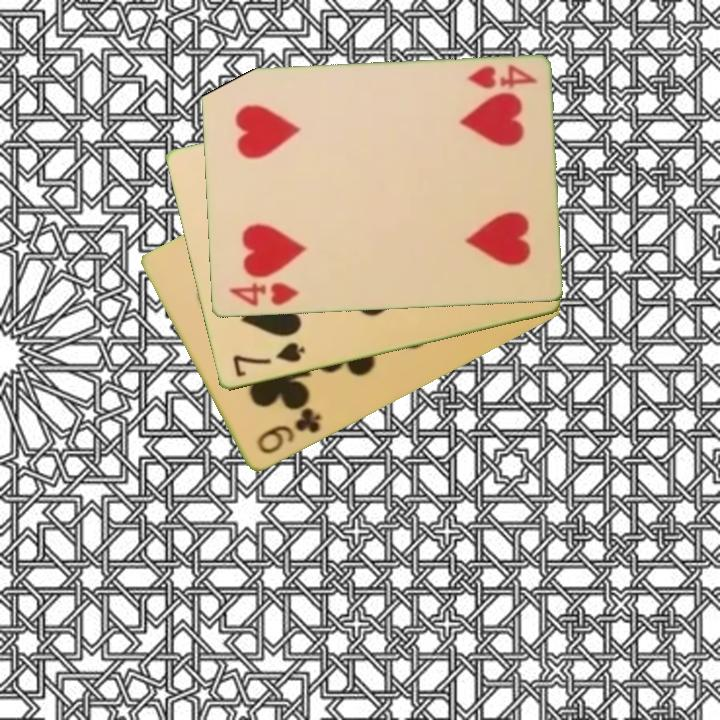4h: (225, 279, 301, 310), (463, 62, 540, 92)
7s: (229, 339, 308, 381)
9c: (253, 404, 324, 458)
